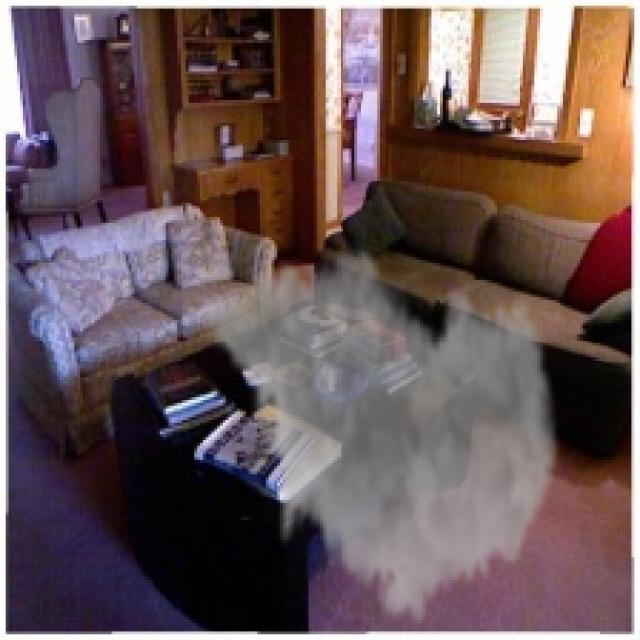smoke: (197, 235, 563, 634)
